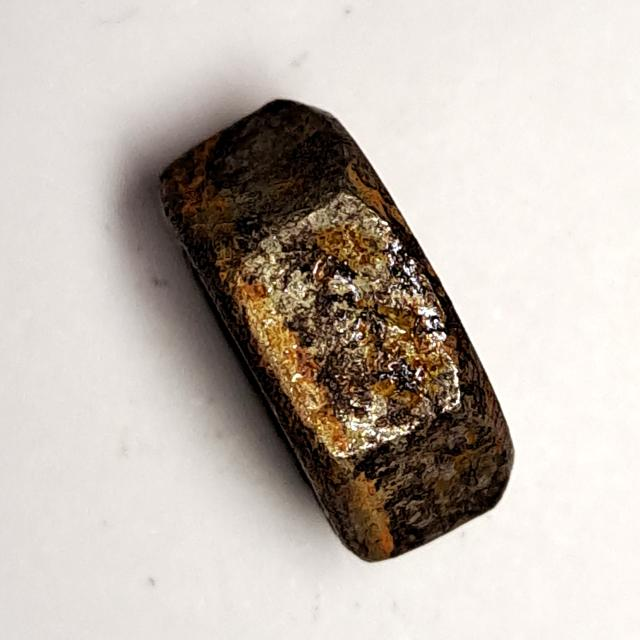Side_Rust: (141, 89, 535, 576)
